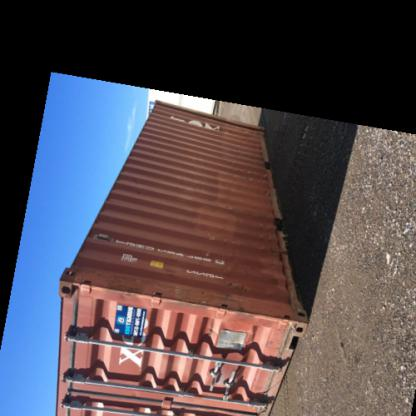Damage: (177, 279, 215, 311), (108, 271, 144, 301), (70, 262, 106, 288), (224, 275, 252, 296), (229, 240, 247, 268), (270, 208, 284, 238), (204, 230, 221, 245)
